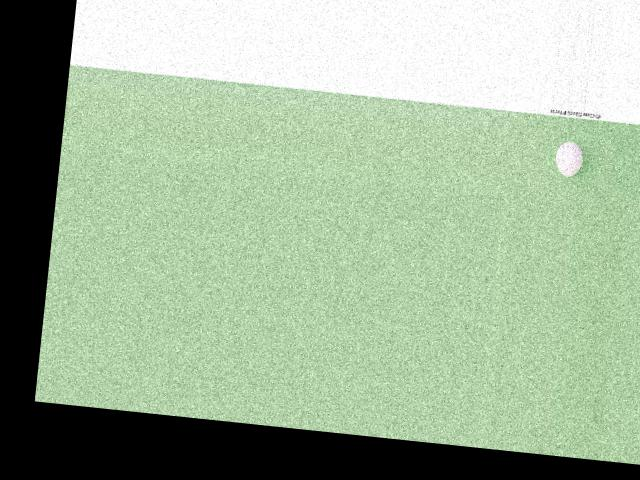egg: (553, 140, 583, 177)
